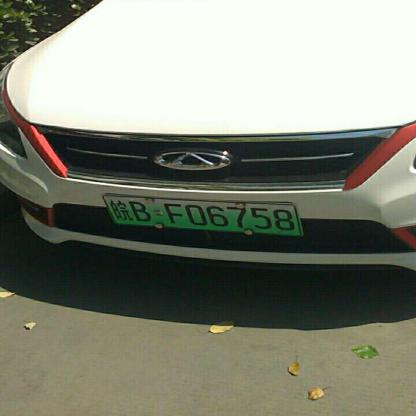lp: (102, 194, 302, 235)
